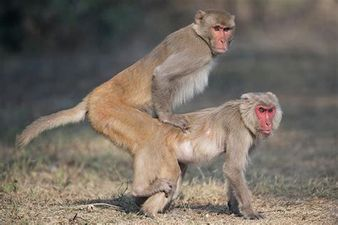monkey: (67, 84, 313, 225), (15, 8, 267, 145)
